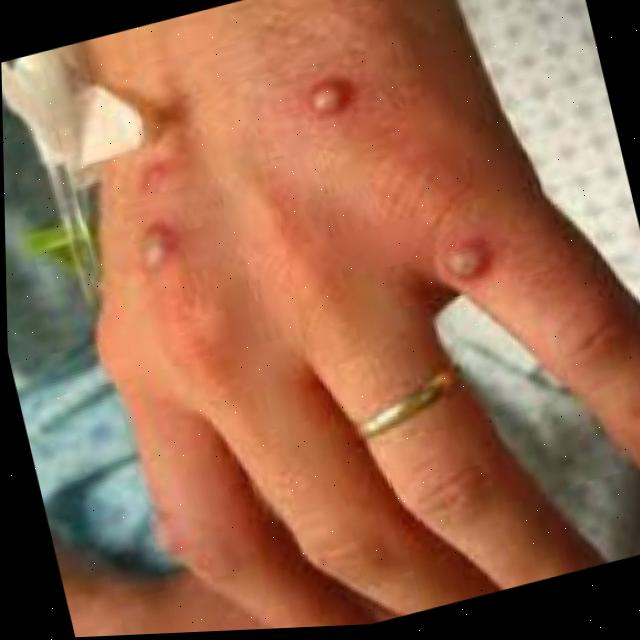Eczema: (120, 152, 185, 252), (430, 242, 485, 279), (307, 79, 350, 109)
